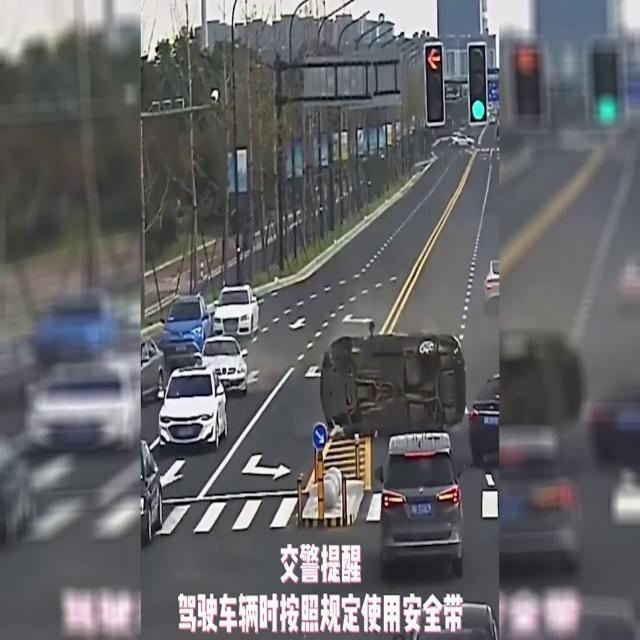non-accident: (320, 319, 468, 451), (157, 337, 250, 451), (160, 296, 250, 396), (158, 286, 260, 366)
